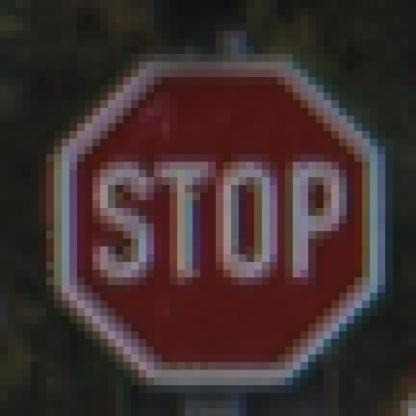Stop: (64, 64, 385, 383)
